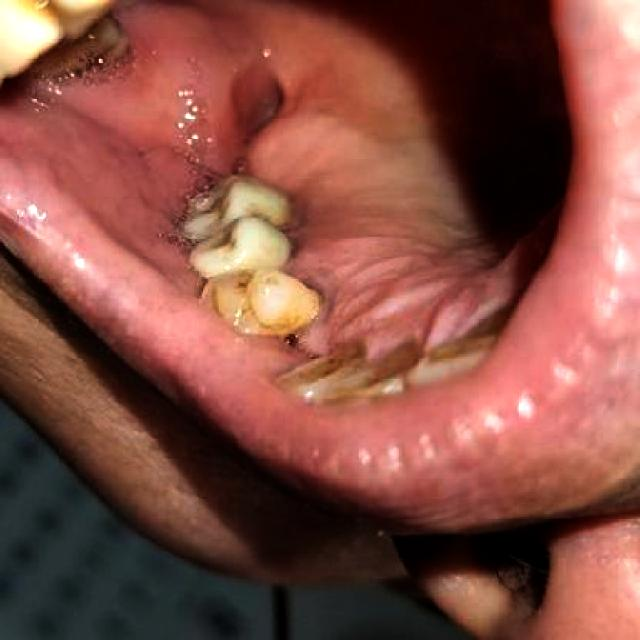Plaque: (235, 274, 254, 292), (240, 300, 256, 316)
